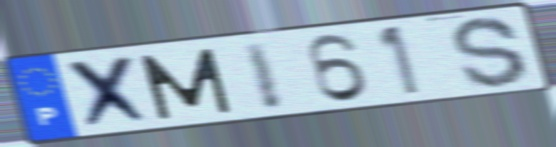1: (374, 22, 426, 99)
6: (304, 32, 372, 105)
I: (239, 38, 288, 113)
M: (135, 46, 236, 123)
S: (448, 14, 533, 91)
X: (63, 52, 158, 133)
